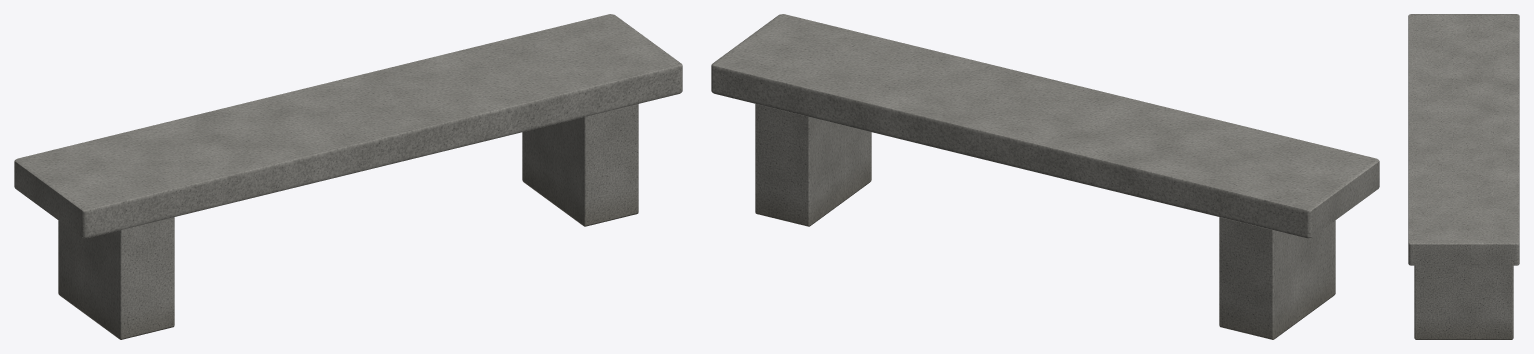
The model's file is banco_patio_realista.glb.
3 views of the same model, side by side, from view 1: azimuth 30°, elevation 25°; view 2: azimuth 150°, elevation 25°; view 3: azimuth 270°, elevation 25° (orthographic). The views are drawn at different scales.
Parts seen in each view (by area): view 1: Banco_Patio_PBR; view 2: Banco_Patio_PBR; view 3: Banco_Patio_PBR.
Part boxes in pixels (box(x1,y1,x2,y2)): Banco_Patio_PBR: box(14, 14, 682, 339); Banco_Patio_PBR: box(711, 14, 1379, 339); Banco_Patio_PBR: box(1408, 14, 1519, 339).
Size of the model in its own units: 2.2 by 0.5 by 0.45.
Materials: 1 (1 with a texture image).
